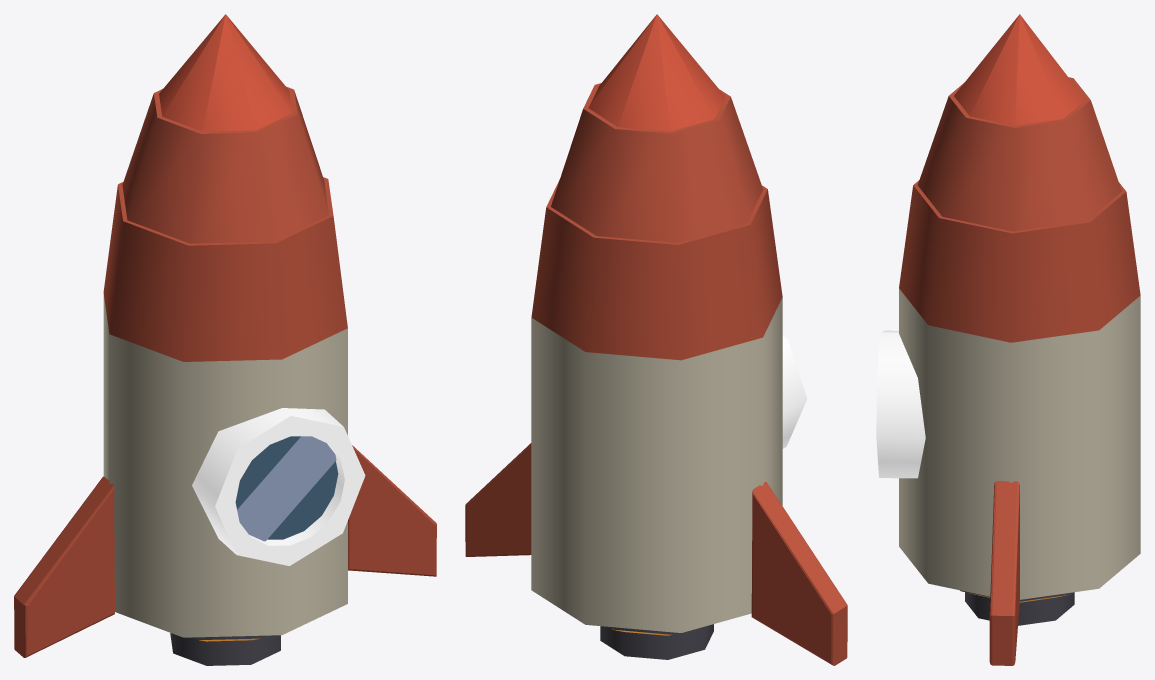
Rendered from rocket.glb.
3 views of the same model, side by side, from view 1: azimuth 30°, elevation 25°; view 2: azimuth 150°, elevation 25°; view 3: azimuth 270°, elevation 25° (orthographic). The views are drawn at different scales.
Size of the model in its own units: 29.93 by 45.6 by 18.54.
